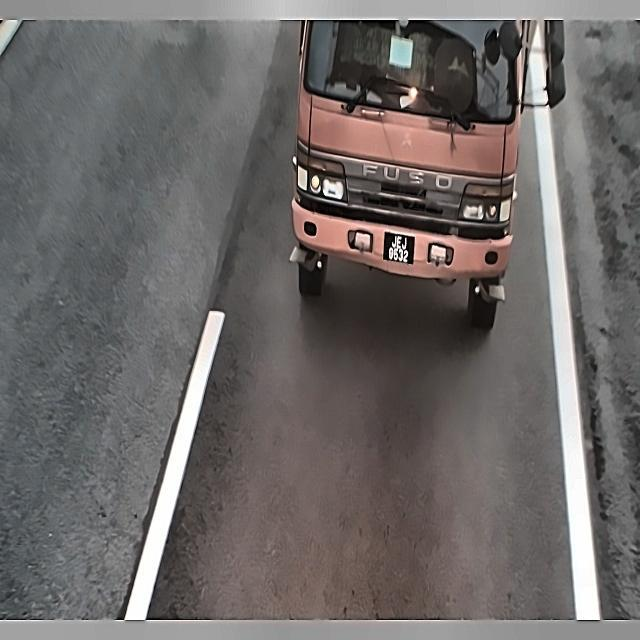car: (380, 222, 419, 275)
